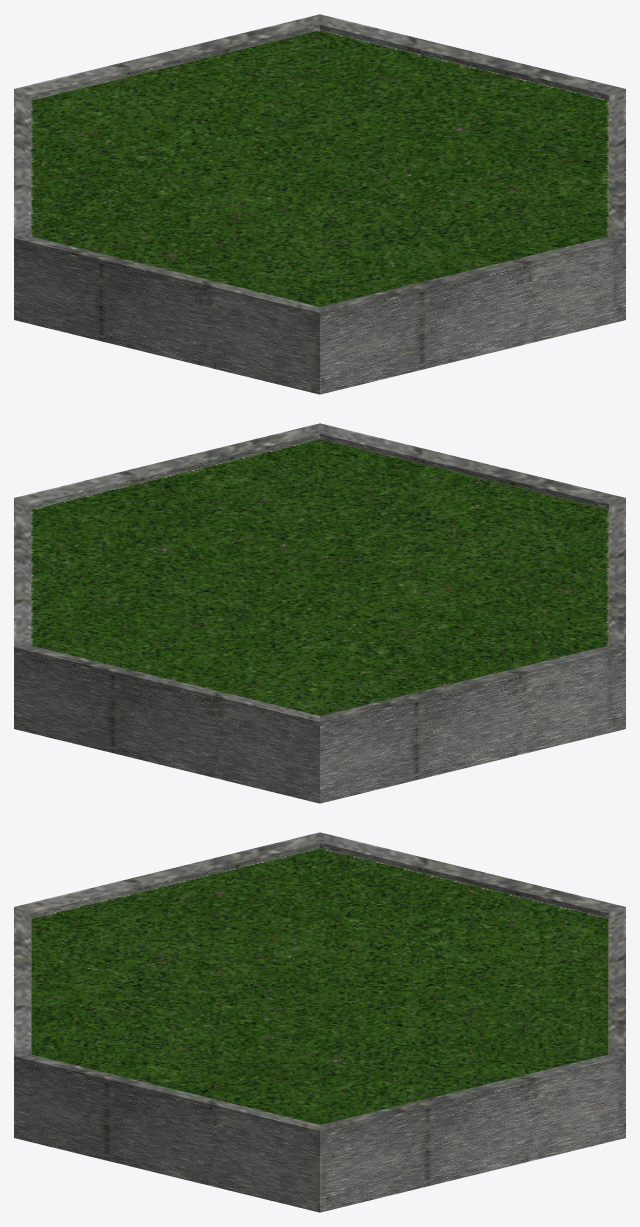
Rendered from TreeBase.fbx.
The picture shows the model from 3 angles, top to bottom: view 1: azimuth 30°, elevation 25°; view 2: azimuth 150°, elevation 25°; view 3: azimuth 270°, elevation 25°; orthographic projection.
Parts seen in each view (by area): view 1: TreeBase; view 2: TreeBase; view 3: TreeBase.
Part boxes in pixels (box(x1,y1,x2,y2)): TreeBase: box(14, 14, 625, 394); TreeBase: box(14, 423, 625, 803); TreeBase: box(14, 832, 625, 1212).
Size of the model in its own units: 6.82 by 0.8702 by 5.91.
Materials: 1 (1 with a texture image).
